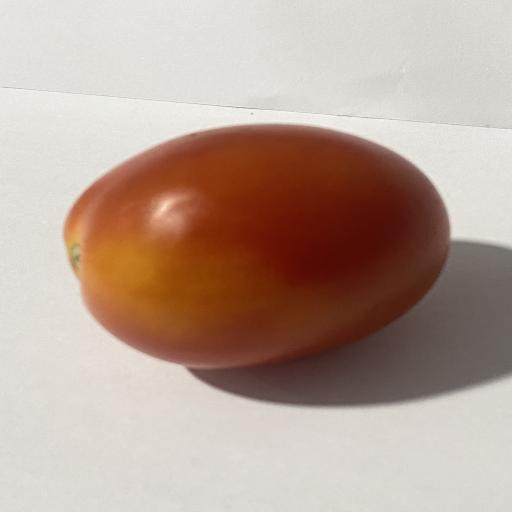ripe: (64, 124, 450, 368)
